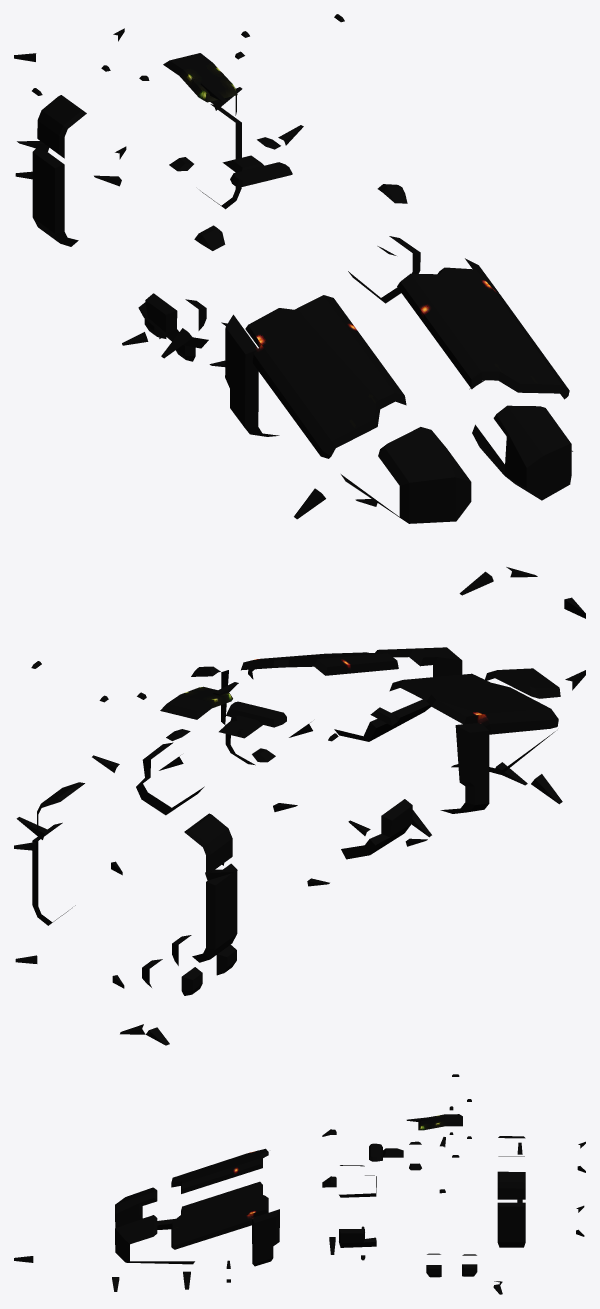
The model's file is tan_cf_miss_01_t2.glb.
3 renders of one model, top to bottom at view 1: azimuth 30°, elevation 25°; view 2: azimuth 150°, elevation 25°; view 3: azimuth 270°, elevation 25°, orthographic. The views are drawn at different scales.
Visible parts, largest first — view 1: tan_missile_frigate_01_t2_LOD0; view 2: tan_missile_frigate_01_t2_LOD0; view 3: tan_missile_frigate_01_t2_LOD0.
Boxes of the visible parts, left/top/right/bottom form: tan_missile_frigate_01_t2_LOD0: left=14, top=14, right=585, bottom=618; tan_missile_frigate_01_t2_LOD0: left=14, top=647, right=585, bottom=1045; tan_missile_frigate_01_t2_LOD0: left=14, top=1074, right=585, bottom=1294.
Size of what is drawn, in the model's own units: 1.13 by 1.11 by 3.32.
Materials: 1 (1 with a texture image).
